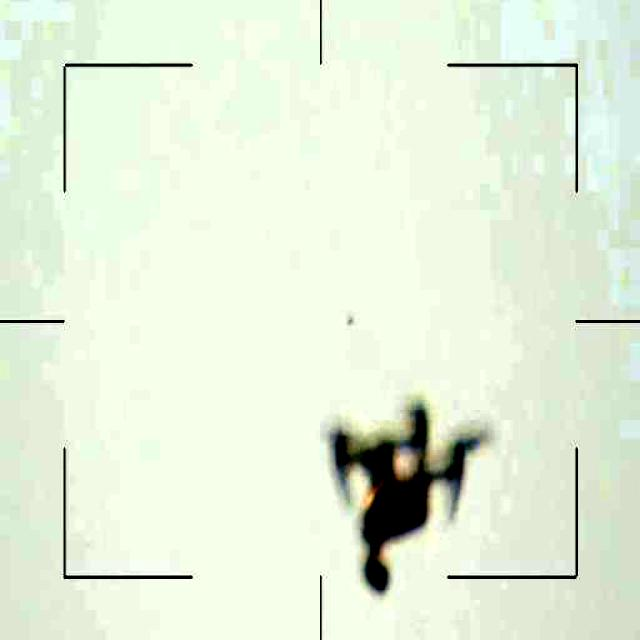bird: (316, 414, 482, 598)
